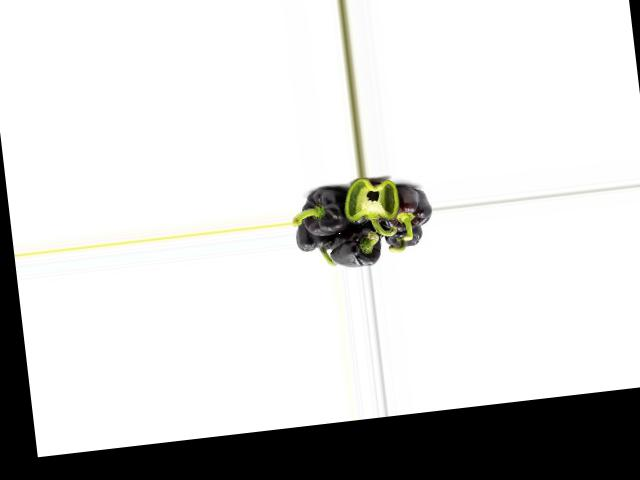bell_pepper: (371, 185, 432, 233)
